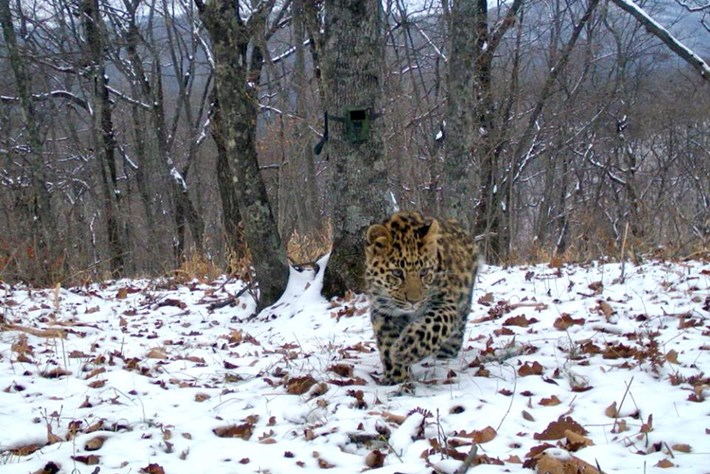amur_leopard: (350, 202, 501, 384)
